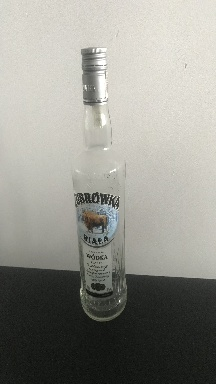butelka: (69, 43, 128, 323)
